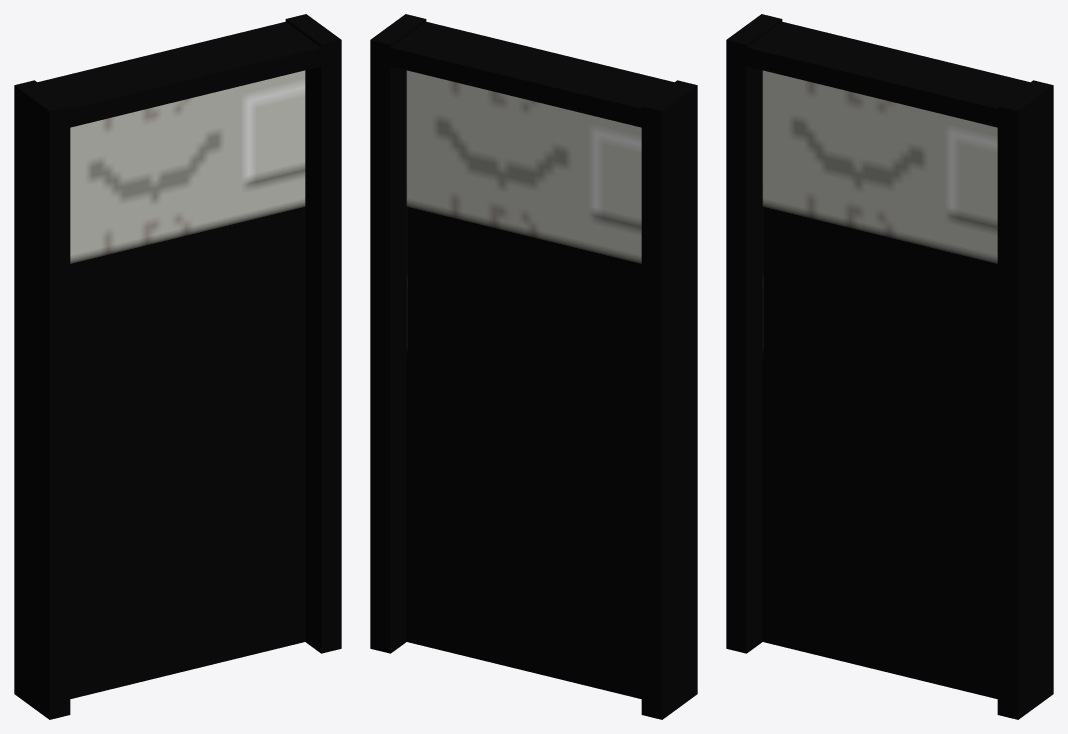
Rendered from SM_door_baize.fbx.
The picture shows the model from 3 angles, left to right: view 1: azimuth 30°, elevation 25°; view 2: azimuth 150°, elevation 25°; view 3: azimuth 330°, elevation 25°; orthographic projection.
Visible parts, largest first — view 1: door_baize_leaf, door_baize_casing_r, door_baize, door_baize_casing_top; view 2: door_baize_leaf, door_baize_casing_r, door_baize, door_baize_casing_top; view 3: door_baize_leaf, door_baize, door_baize_casing_r, door_baize_casing_top.
Boxes of the visible parts, x1,y1,x2,y2 form: door_baize_leaf: (70, 70, 305, 698); door_baize_casing_r: (14, 80, 70, 719); door_baize: (285, 14, 341, 653); door_baize_casing_top: (38, 21, 326, 128); door_baize_leaf: (406, 70, 641, 698); door_baize_casing_r: (641, 80, 697, 719); door_baize: (370, 14, 426, 653); door_baize_casing_top: (385, 21, 673, 128); door_baize_leaf: (762, 70, 997, 698); door_baize: (997, 80, 1053, 719); door_baize_casing_r: (726, 14, 782, 653); door_baize_casing_top: (741, 21, 1029, 128).
Size of the model in its own units: 1.14 by 2.27 by 0.24.
